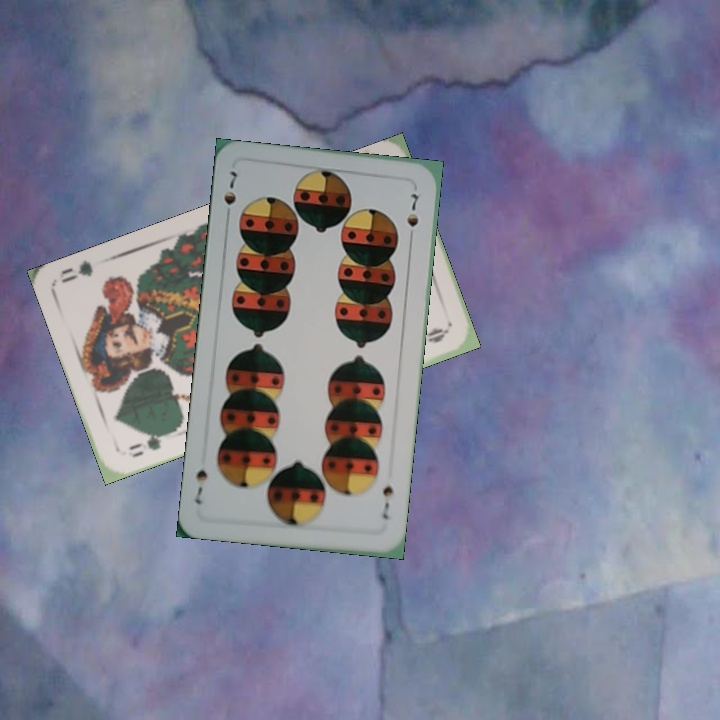GO: (124, 427, 175, 461)
S7: (219, 167, 240, 208), (378, 481, 396, 522)
